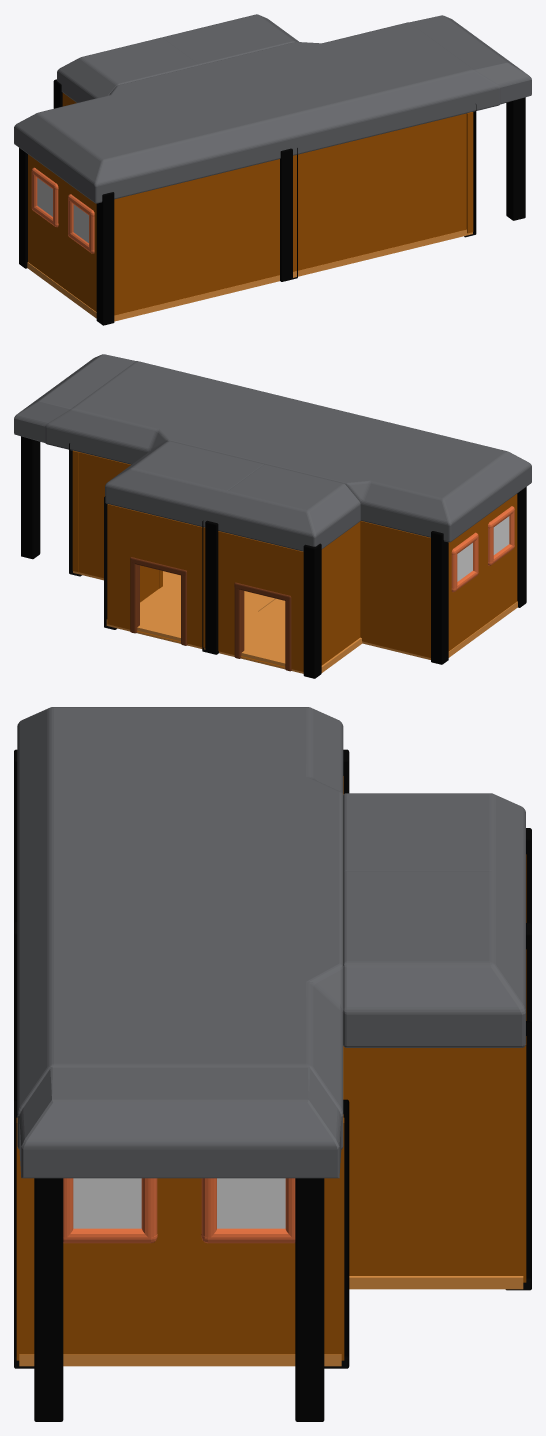
Rendered from trash building 0.4still going .fbx.
3 renders of one model, top to bottom at view 1: azimuth 30°, elevation 25°; view 2: azimuth 150°, elevation 25°; view 3: azimuth 270°, elevation 25°, orthographic. The views are drawn at different scales.
Parts seen in each view (by area): view 1: Cube.007, Cube.012, Cube.014, Cube.008, Cube.013, Cube.023; view 2: Cube.007, Cube.012, Cube.014, Cube.008, Cube.010, Cube.013, Cube.023; view 3: Cube.007, Cube.012, Cube.014, Cube.023, Cube.008, Cube.013.
Boxes of the visible parts, x1=… form: Cube.007: x1=14, y1=14, x2=531, y2=203; Cube.012: x1=28, y1=93, x2=473, y2=315; Cube.014: x1=19, y1=79, x2=525, y2=325; Cube.008: x1=27, y1=229, x2=472, y2=321; Cube.013: x1=31, y1=167, x2=94, y2=253; Cube.023: x1=37, y1=178, x2=88, y2=242; Cube.007: x1=14, y1=354, x2=531, y2=551; Cube.012: x1=72, y1=450, x2=517, y2=671; Cube.014: x1=21, y1=436, x2=526, y2=678; Cube.008: x1=73, y1=571, x2=517, y2=673; Cube.010: x1=130, y1=557, x2=291, y2=671; Cube.013: x1=451, y1=506, x2=514, y2=592; Cube.023: x1=457, y1=516, x2=509, y2=581; Cube.007: x1=17, y1=707, x2=525, y2=1178; Cube.012: x1=16, y1=776, x2=526, y2=1360; Cube.014: x1=14, y1=749, x2=531, y2=1421; Cube.023: x1=73, y1=1178, x2=285, y2=1228; Cube.008: x1=19, y1=1276, x2=523, y2=1366; Cube.013: x1=63, y1=1178, x2=295, y2=1243.
Size of the model in its own units: 1529 by 524 by 790.
